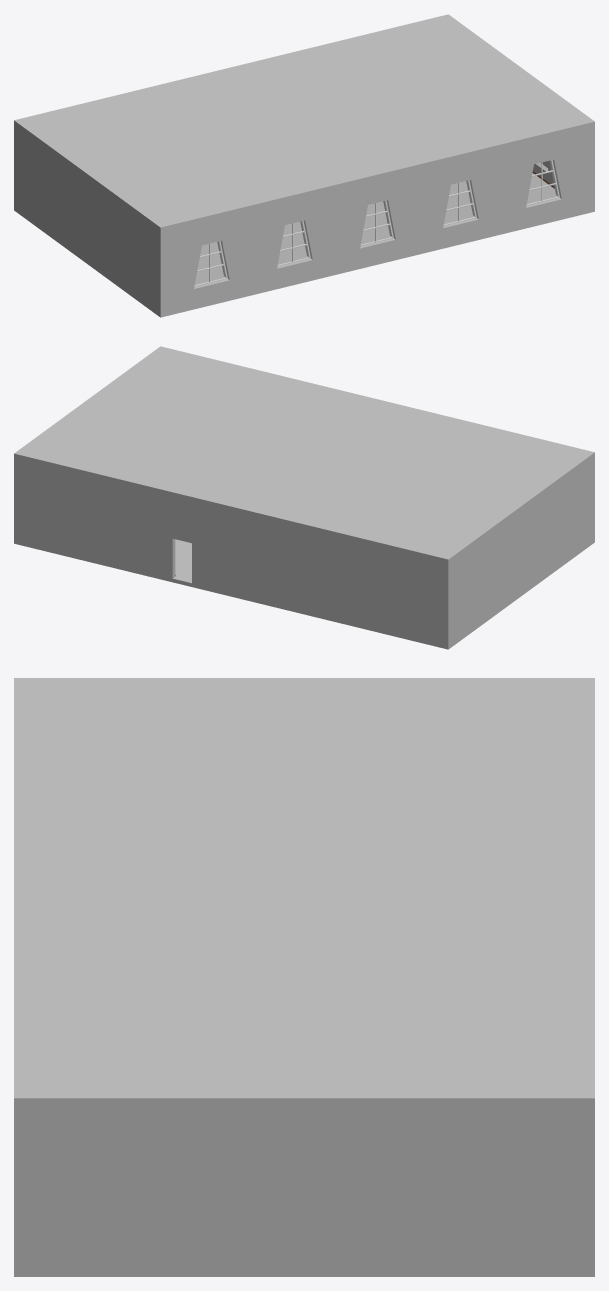
File: Gallery_Room01.FBX
The picture shows the model from 3 angles, top to bottom: view 1: azimuth 30°, elevation 25°; view 2: azimuth 150°, elevation 25°; view 3: azimuth 270°, elevation 25°; orthographic projection. The views are drawn at different scales.
Parts seen in each view (by area): view 1: Gallery_Room, Windows_Glass, Windows; view 2: Gallery_Room; view 3: Gallery_Room.
Boxes of the visible parts, x1,y1,x2,y2 form: Gallery_Room: [14, 14, 594, 317]; Windows_Glass: [195, 161, 557, 284]; Windows: [194, 160, 559, 286]; Gallery_Room: [14, 346, 594, 649]; Gallery_Room: [14, 678, 594, 1276].
Size of the model in its own units: 1074 by 213 by 628.
